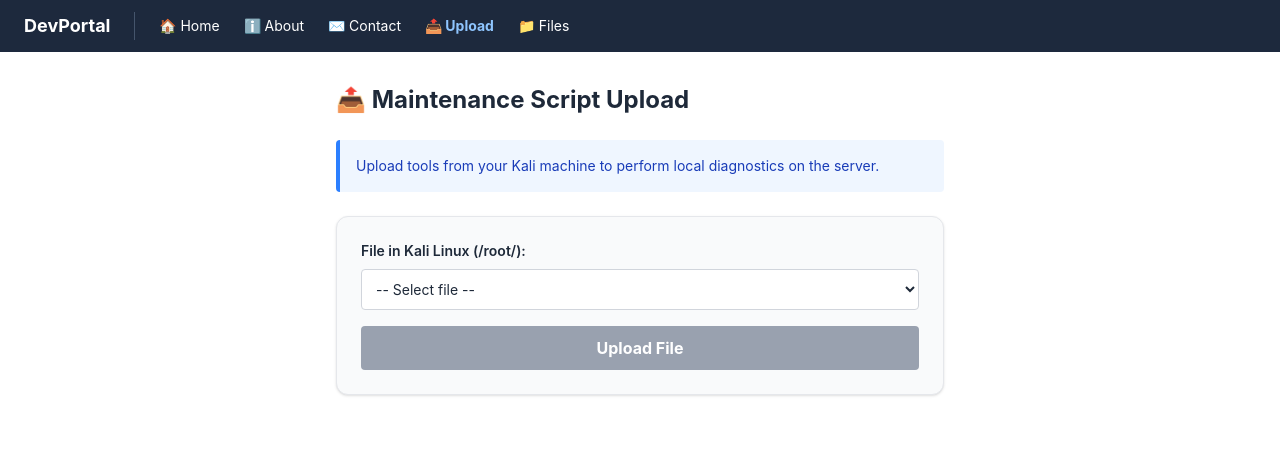
Scenario: InclusionSite - LFI Lab › Página de upload › debe subir archivo correctamente
Select "payload.php" in the dropdown at coordinates (640, 290), box [361,269,919,310]
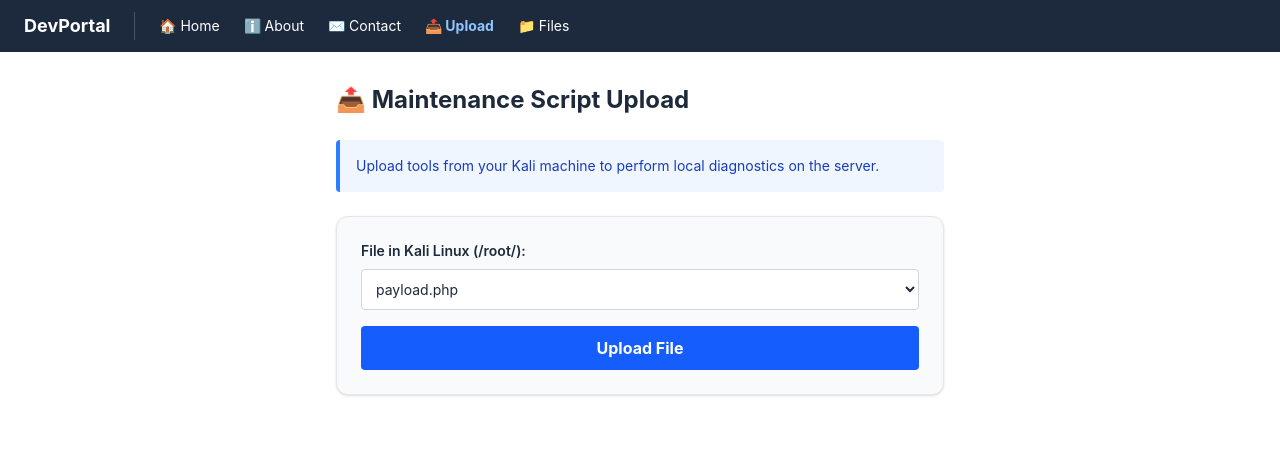
Click the button "Upload File" at coordinates (640, 348), box [361,326,919,370]
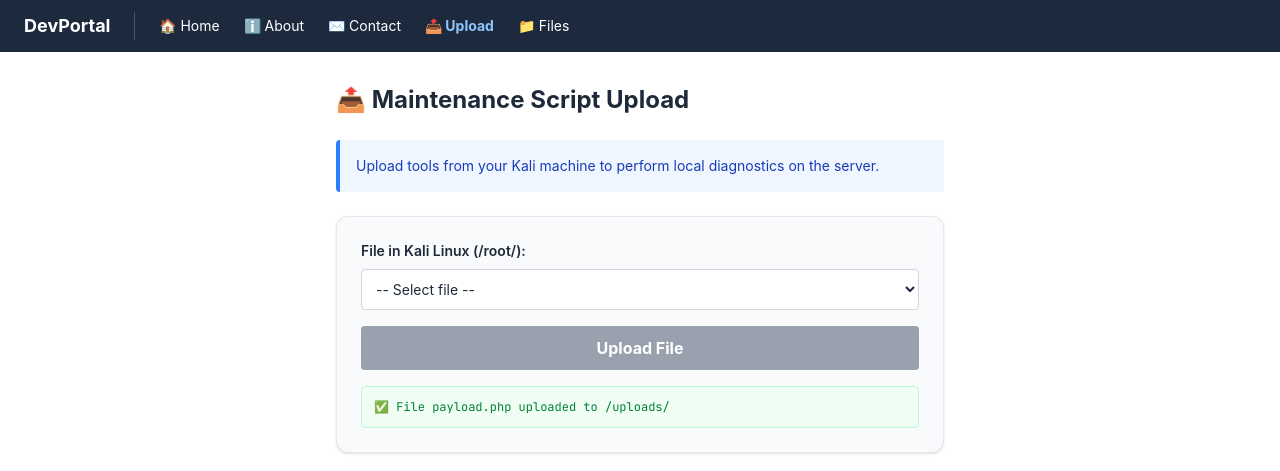
expect the text "✅ File payload.php uploaded to /uploads/" is shown: met, box [361,386,919,428]
